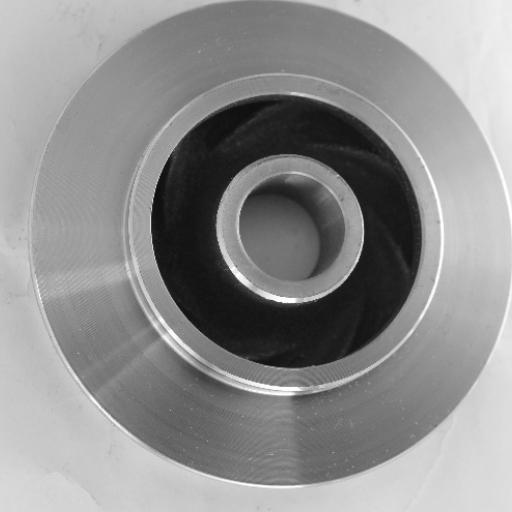polished_casting: (29, 0, 512, 489)
